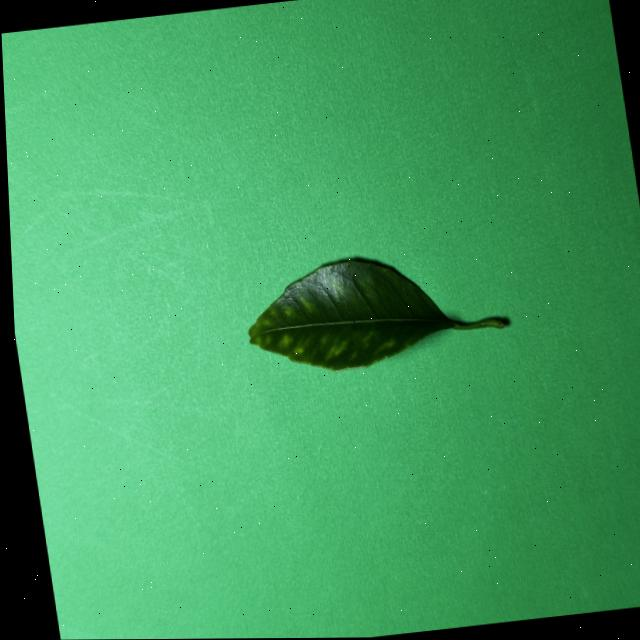greening: (248, 259, 505, 369)
